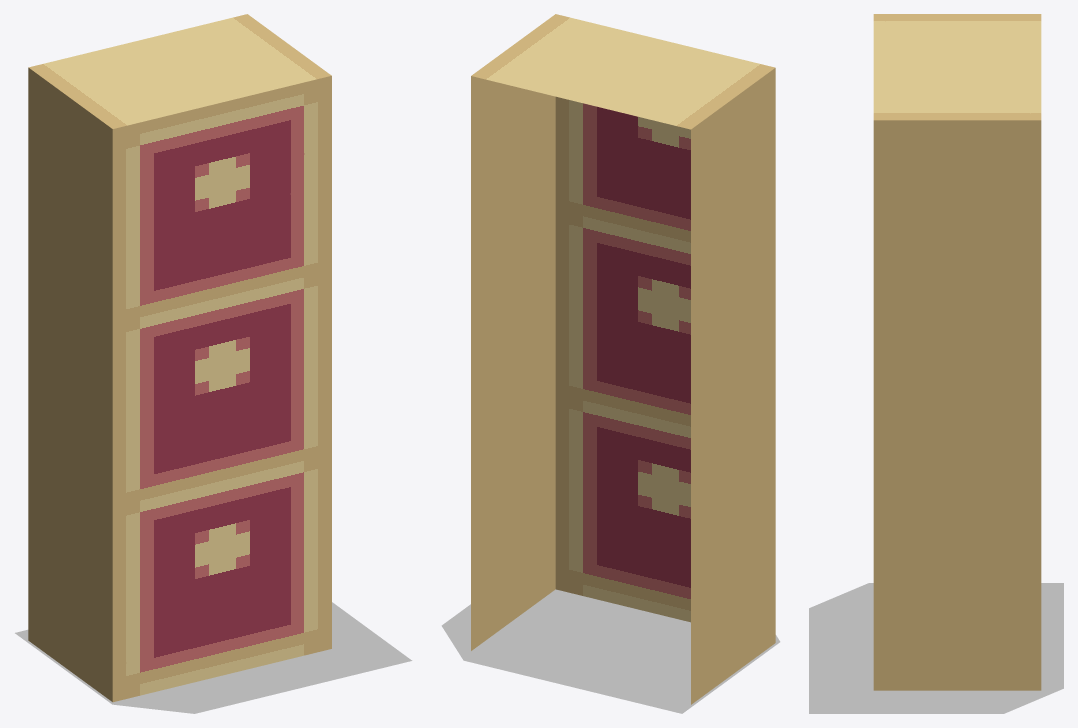
3 renders of one model, left to right at view 1: azimuth 30°, elevation 25°; view 2: azimuth 150°, elevation 25°; view 3: azimuth 270°, elevation 25°, orthographic.
Parts seen in each view (by area): view 1: polygon0, polygon1; view 2: polygon0, polygon1; view 3: polygon0, polygon1.
Boxes of the visible parts, <box> form: polygon0: <box>28,14,331,702</box>; polygon1: <box>15,602,412,713</box>; polygon0: <box>471,14,775,704</box>; polygon1: <box>441,589,780,713</box>; polygon0: <box>873,14,1041,690</box>; polygon1: <box>809,583,1063,713</box>.
Bounding box in the file's own units: 1.85 × 3.75 × 1.52.
